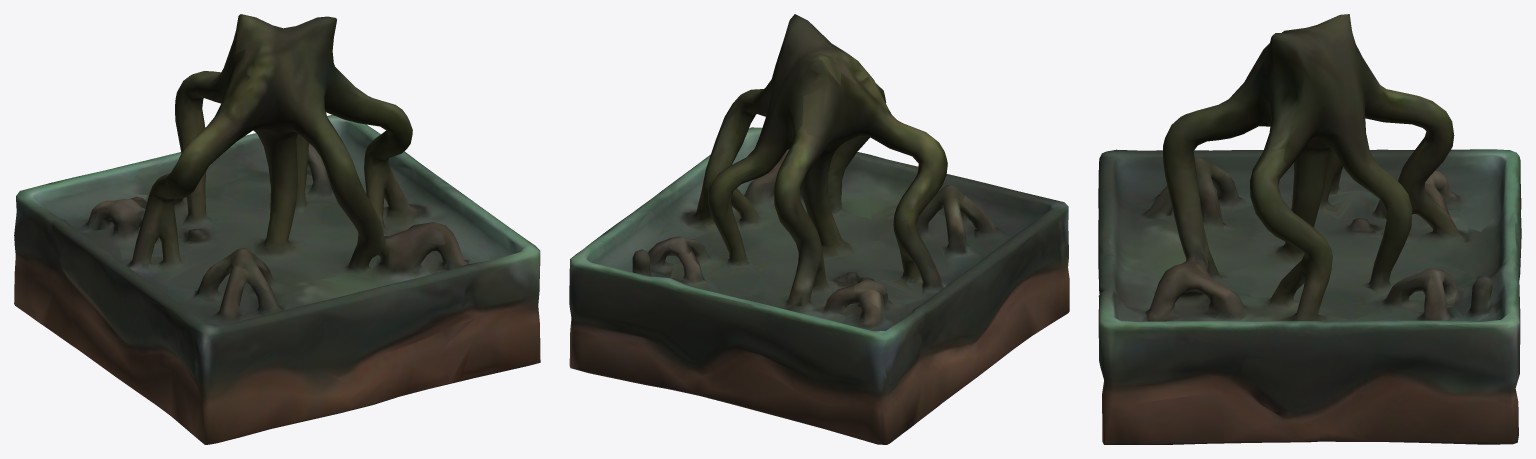
File: t06_pantano_raizes.glb
3 renders of one model, left to right at view 1: azimuth 30°, elevation 25°; view 2: azimuth 150°, elevation 25°; view 3: azimuth 270°, elevation 25°, orthographic. The views are drawn at different scales.
Visible parts, largest first — view 1: t06_pantano_raizes; view 2: t06_pantano_raizes; view 3: t06_pantano_raizes.
Boxes of the visible parts, x1,y1,x2,y2 form: t06_pantano_raizes: (14,14,540,444); t06_pantano_raizes: (569,14,1069,444); t06_pantano_raizes: (1098,14,1521,444).
Bounding box in the file's own units: 0.9471 × 0.8524 × 0.9456.
1 material, 1 textured.
